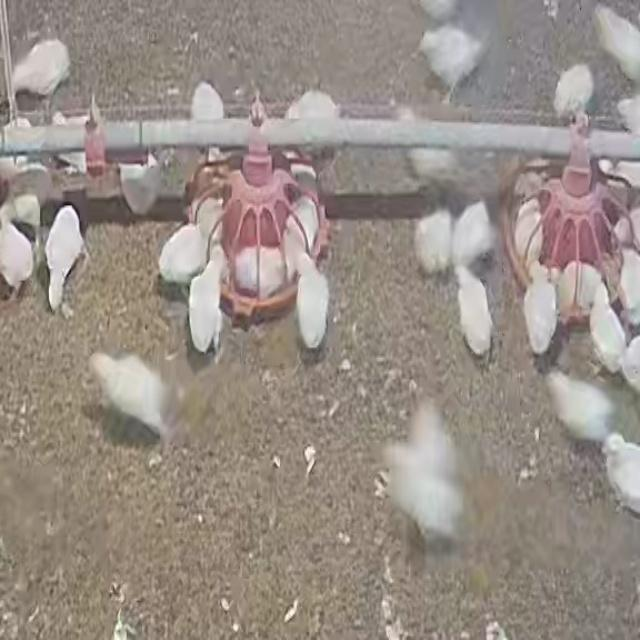chicken: (380, 402, 464, 548), (88, 348, 176, 444), (43, 203, 88, 313), (544, 371, 612, 443), (406, 102, 462, 186), (418, 22, 483, 94), (281, 89, 340, 157), (189, 248, 226, 352), (455, 265, 495, 358), (12, 38, 71, 100), (595, 4, 640, 82), (588, 284, 626, 373), (295, 255, 330, 350), (602, 434, 640, 516), (157, 222, 206, 285), (0, 210, 35, 298), (522, 267, 556, 355), (235, 244, 287, 299), (119, 154, 163, 218), (413, 205, 453, 275), (50, 110, 94, 172), (552, 61, 595, 119), (557, 262, 602, 316), (514, 201, 544, 266), (291, 193, 320, 254), (617, 248, 640, 320), (190, 80, 226, 122), (290, 156, 320, 205), (196, 193, 224, 245), (282, 222, 306, 280), (10, 191, 42, 230), (513, 167, 546, 202), (608, 158, 640, 192)
